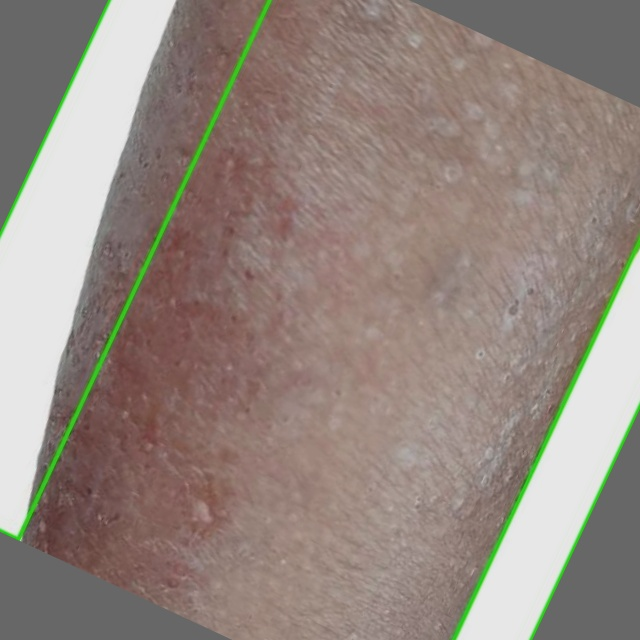Atopic Dermatitis: (0, 0, 269, 539)
